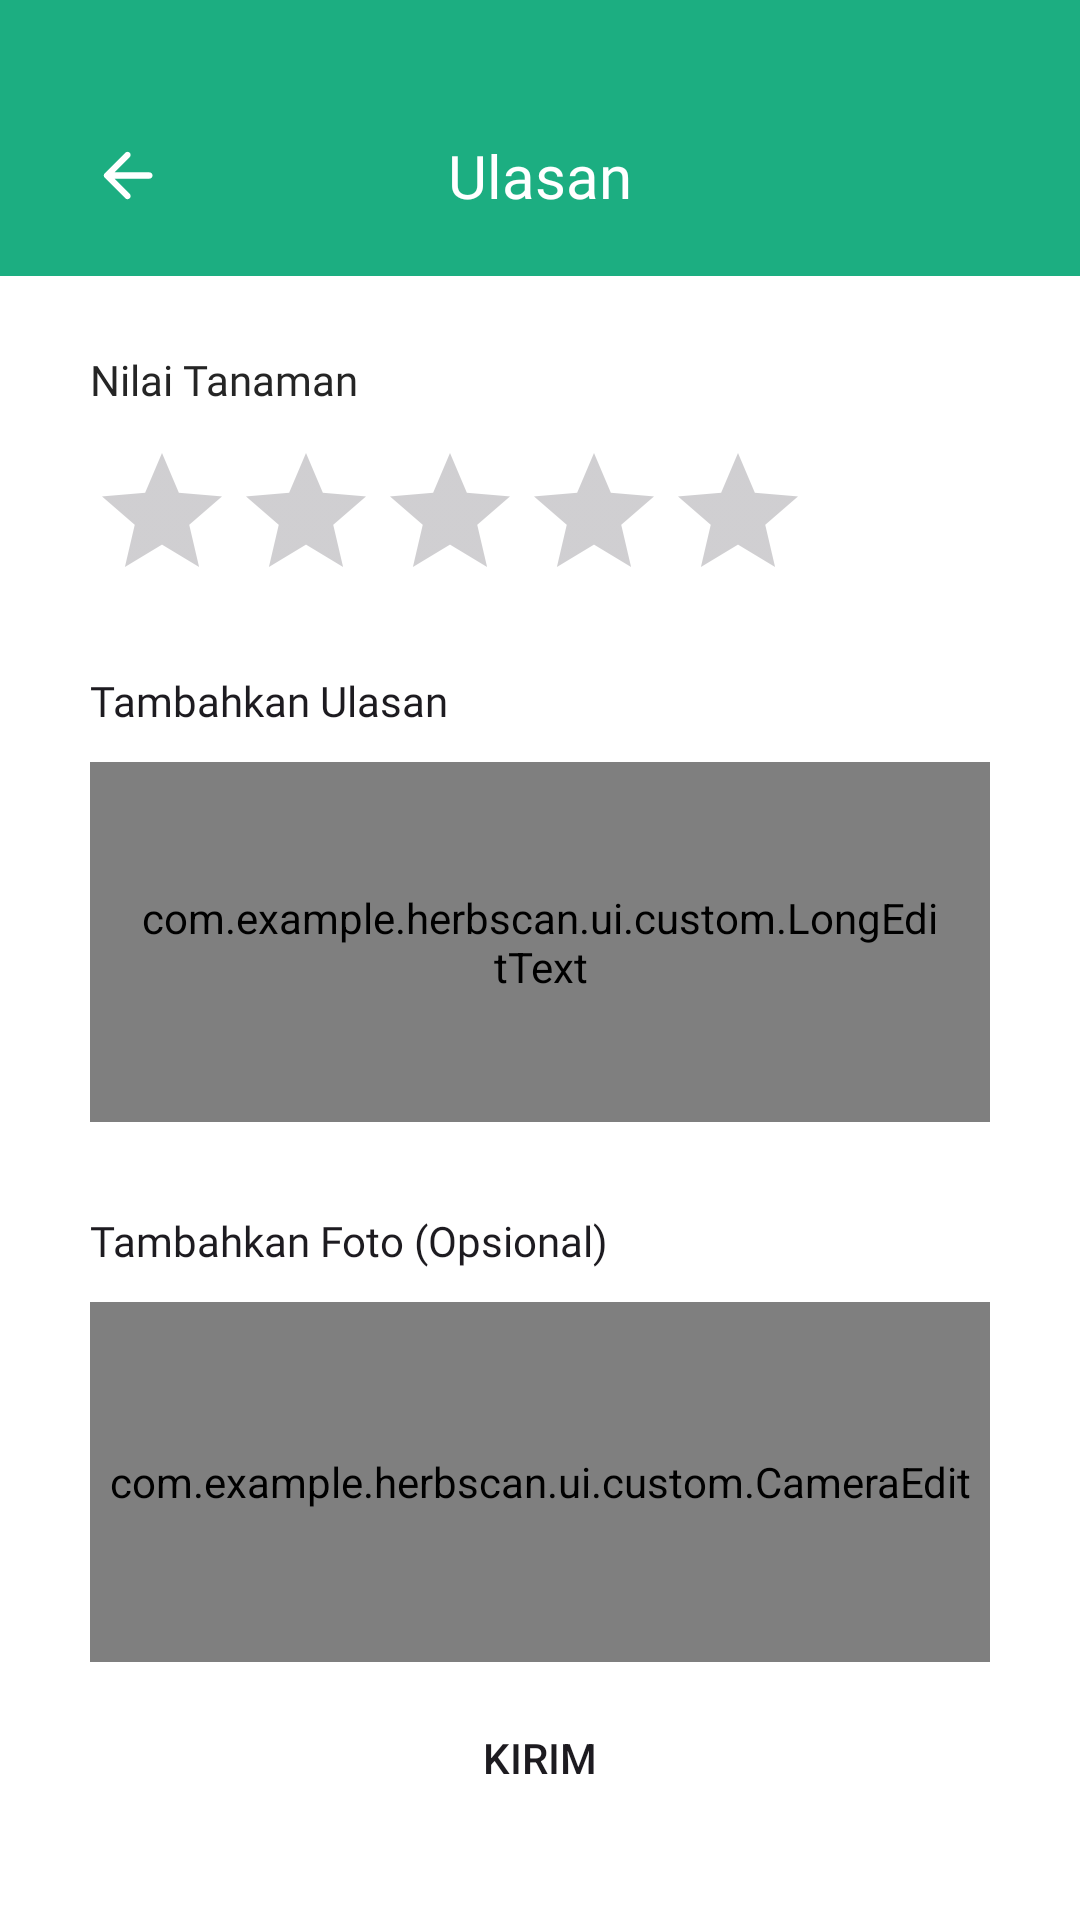

Named icons in this screenshot (1080px x 1920px) and their bounding boxes, (x1, y1, x2, y2):
Kembali: (103, 151, 153, 200)
